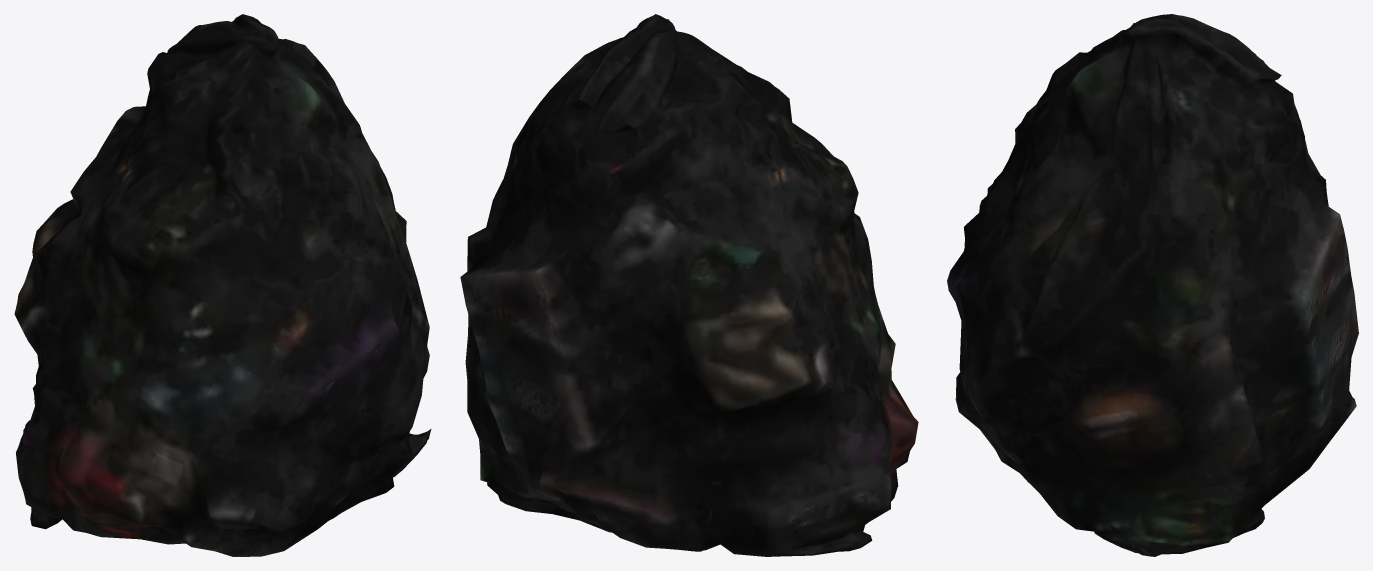
File: trashbag.glb
The picture shows the model from 3 angles, left to right: view 1: azimuth 30°, elevation 25°; view 2: azimuth 150°, elevation 25°; view 3: azimuth 270°, elevation 25°; orthographic projection. The views are drawn at different scales.
Parts seen in each view (by area): view 1: trashbag; view 2: trashbag; view 3: trashbag.
Part boxes in pixels (x1,y1,x2,y2): trashbag: (14, 14, 431, 556); trashbag: (460, 14, 918, 556); trashbag: (947, 14, 1358, 556).
Size of the model in its own units: 0.528 by 0.575 by 0.4629.
Materials: 1 (1 with a texture image).
